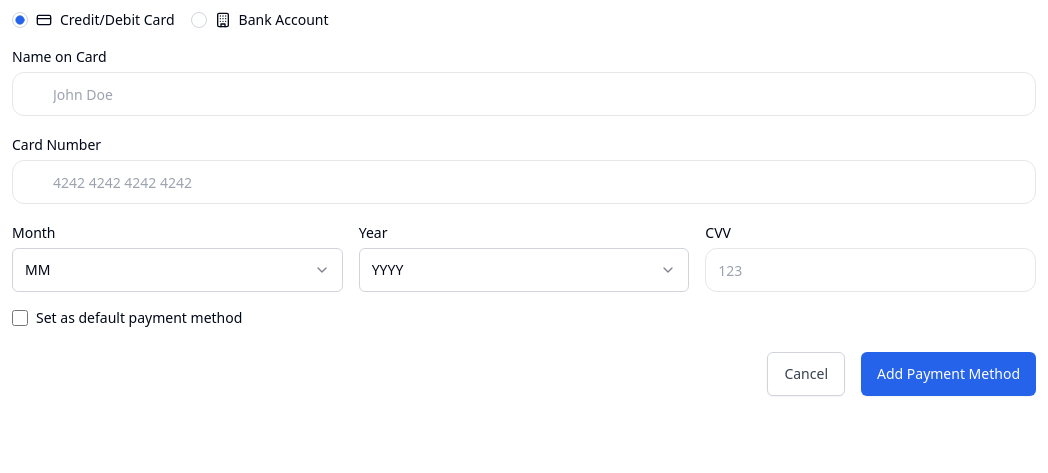
Test: PaymentMethodForm Component › Form Interactions - Bank › limits routing number to 9 digits
The width and height of the screenshot is (1048, 473).
Click the radio button named "Bank Account" next to "Bank Account". click: (199, 20)
box: [191,12,207,28]
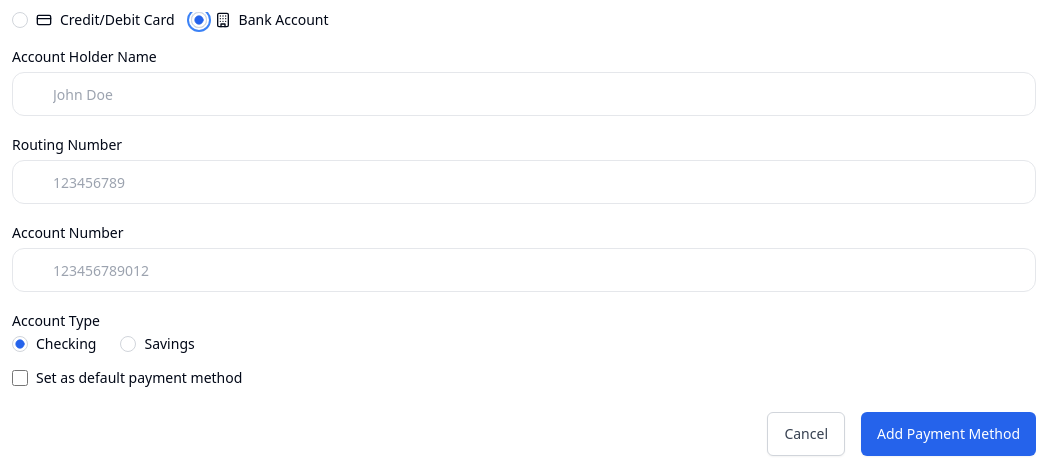
Type "12345678901234" into the field labelled "Routing Number". click: (524, 182)
box: [12,160,1036,204]
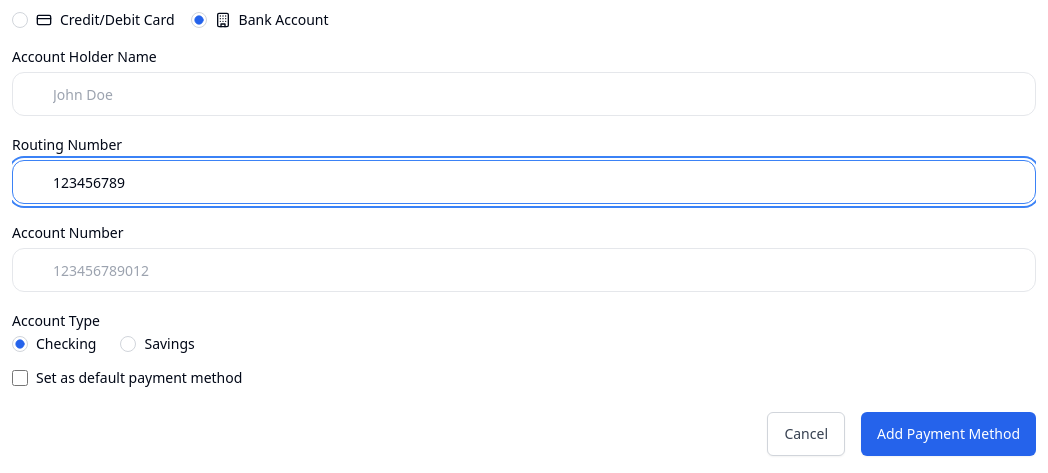
Result: the field labelled "Routing Number" holds "123456789" at [12,160,1036,204]
